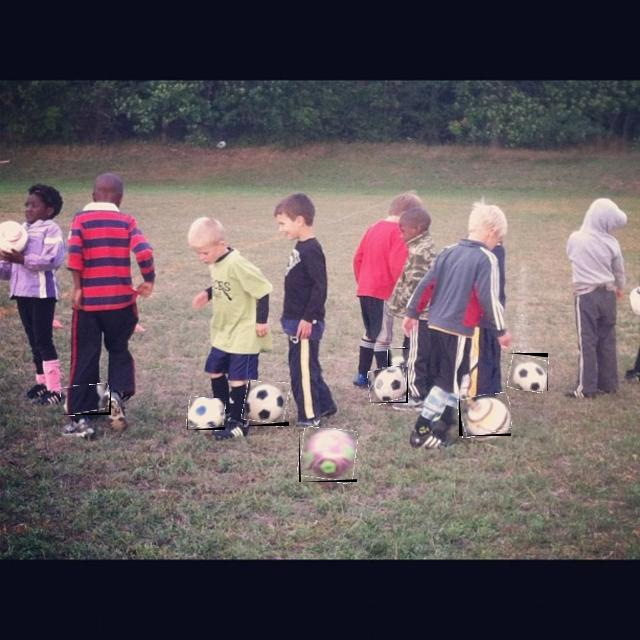Football: (299, 428, 357, 482), (459, 394, 511, 436), (243, 382, 289, 426), (508, 353, 548, 391), (61, 385, 111, 415), (368, 367, 408, 403), (187, 398, 225, 430), (388, 348, 408, 366)
